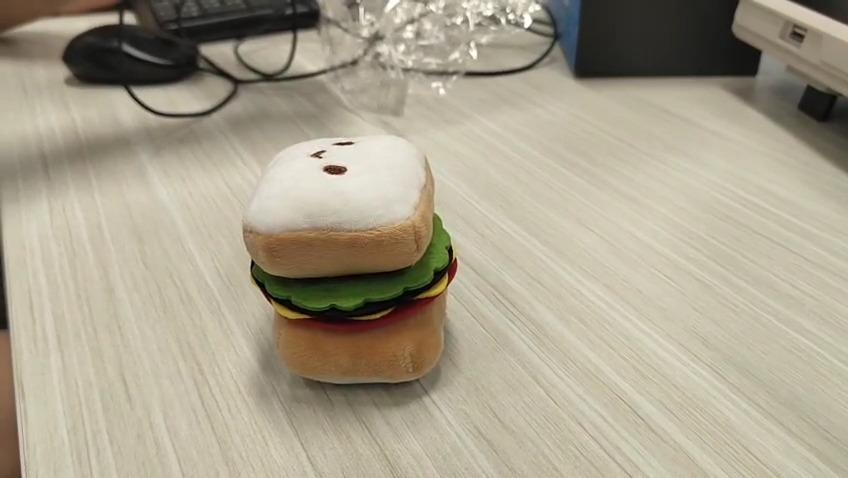objects: (242, 135, 458, 384)
